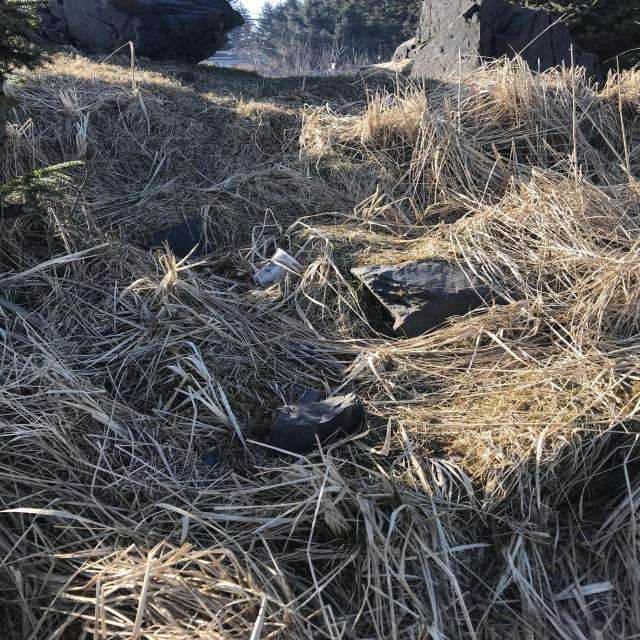Disposable plastic cup: (252, 248, 304, 287)
Plastic lid: (277, 247, 304, 269)
